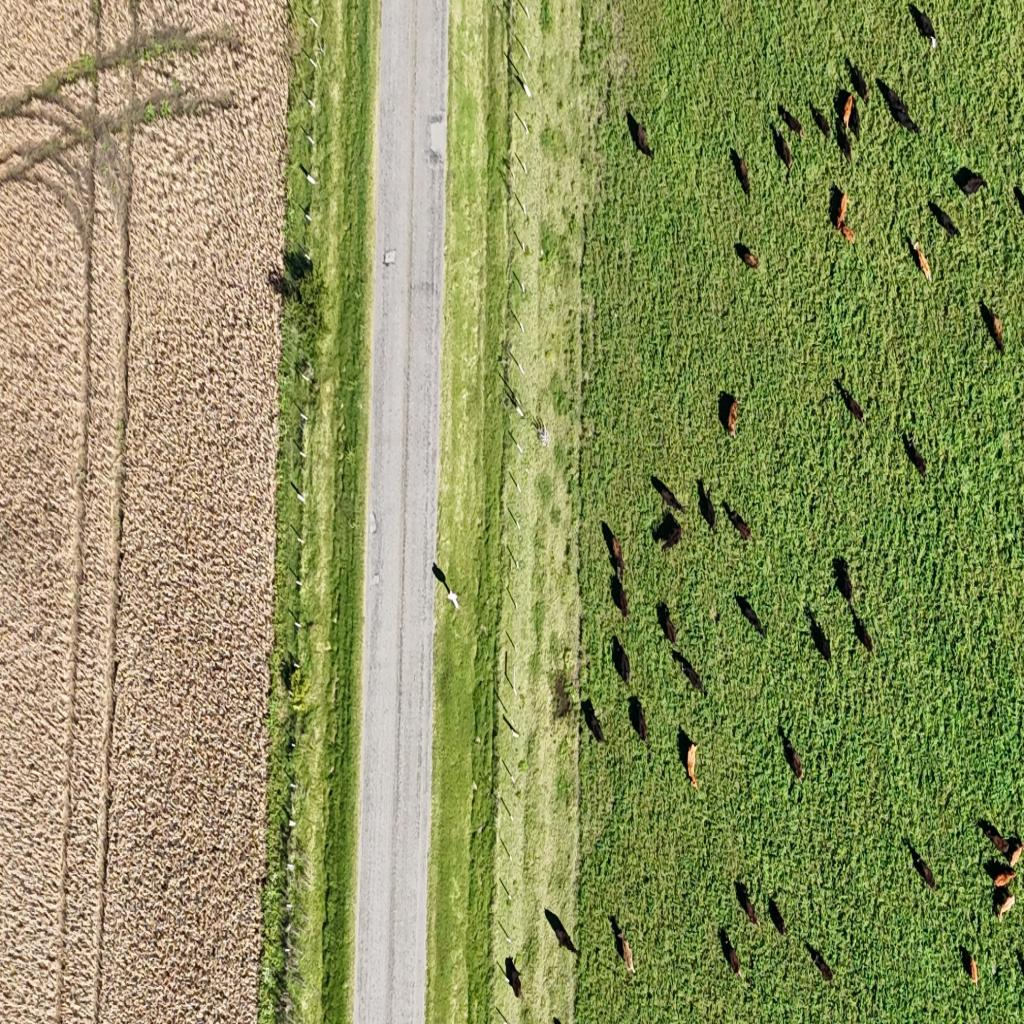cow: (730, 590, 764, 642), (608, 913, 636, 975), (908, 840, 938, 894), (545, 908, 579, 955), (718, 926, 744, 987), (978, 298, 1006, 352), (732, 878, 761, 929), (607, 526, 630, 590), (909, 4, 938, 54), (650, 475, 684, 515), (876, 80, 908, 122), (678, 727, 700, 788), (902, 431, 928, 482), (832, 190, 854, 246), (951, 166, 987, 200), (678, 652, 704, 696), (851, 611, 875, 657), (978, 820, 1008, 856), (629, 694, 649, 747), (719, 392, 740, 440), (659, 599, 680, 647), (768, 886, 787, 939), (584, 700, 606, 745), (611, 635, 630, 687), (810, 615, 831, 662), (834, 558, 854, 606), (658, 514, 683, 552), (698, 481, 716, 532), (611, 571, 630, 619), (992, 863, 1020, 895), (810, 944, 834, 981), (728, 508, 753, 543), (1002, 835, 1023, 876), (734, 150, 751, 200), (776, 128, 794, 174), (505, 956, 523, 1000), (995, 888, 1017, 923), (962, 946, 980, 986), (626, 110, 642, 150), (788, 744, 804, 780), (840, 92, 854, 130), (740, 246, 760, 270), (608, 912, 623, 944), (851, 398, 867, 426)
